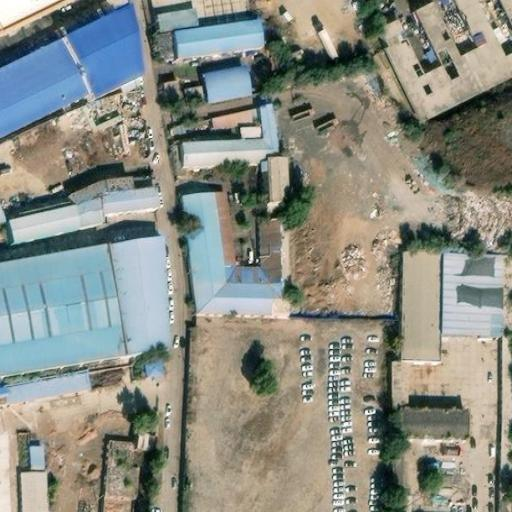building: (182, 190, 293, 314), (62, 0, 147, 99), (106, 238, 174, 355), (440, 253, 507, 335), (402, 246, 442, 364), (14, 198, 107, 244), (172, 18, 266, 55), (400, 403, 473, 439), (104, 439, 145, 501), (8, 375, 89, 401), (203, 64, 254, 104), (184, 140, 269, 163), (68, 176, 134, 204), (212, 105, 261, 140), (105, 185, 161, 214), (269, 154, 293, 202), (0, 424, 13, 512), (21, 470, 48, 512), (310, 19, 339, 57), (157, 9, 198, 31), (261, 105, 278, 154), (156, 71, 182, 100), (391, 363, 409, 403), (138, 352, 166, 377), (154, 30, 176, 58), (179, 78, 205, 99), (29, 444, 46, 471), (240, 125, 261, 140), (132, 173, 152, 188)
